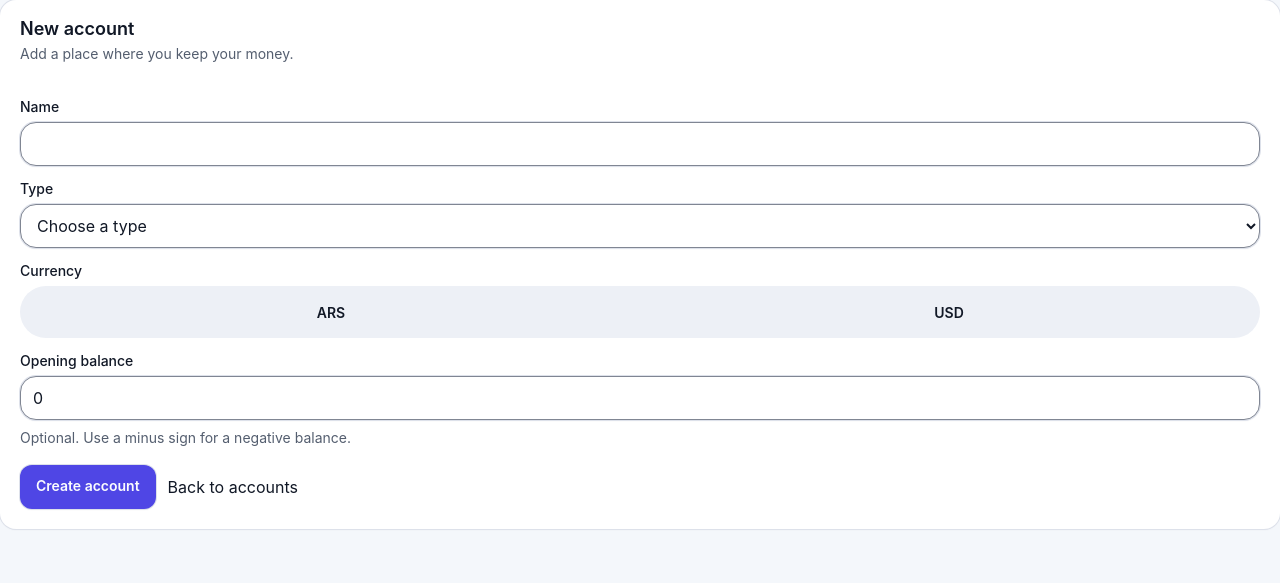
Test: AccountForm include in available setting › labels the checkbox in English too (AC-23)
Select "Cash" in the dropdown labelled "Type": (640, 226) x1=20 y1=204 x2=1260 y2=248
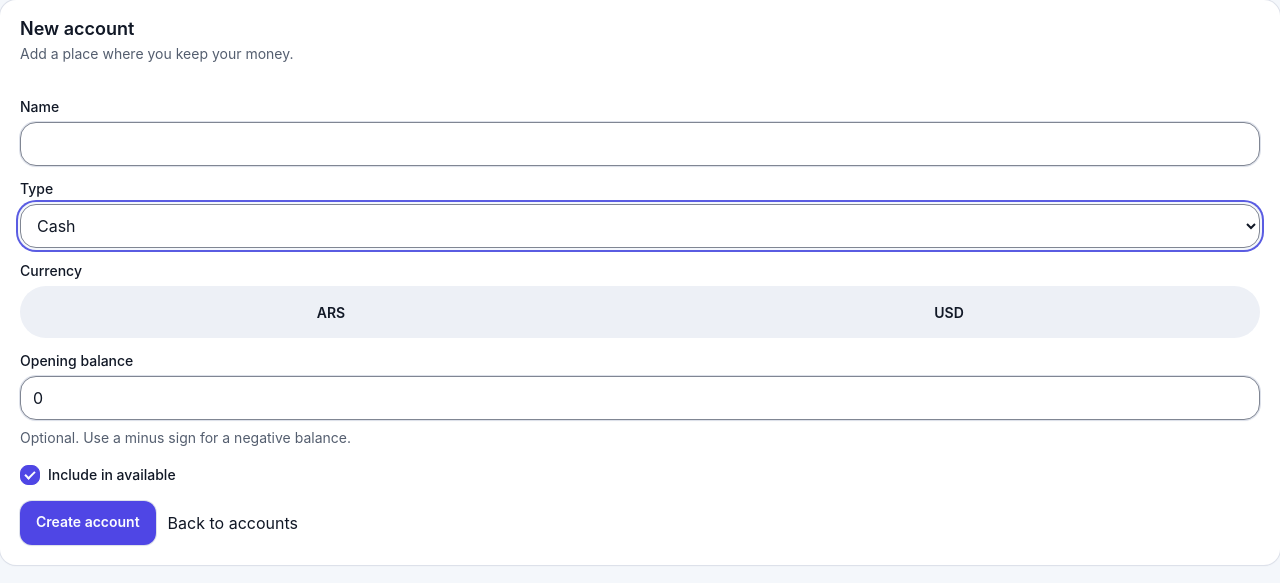
Now the checkbox labelled "Include in available" is shown, box x1=20 y1=465 x2=40 y2=485
